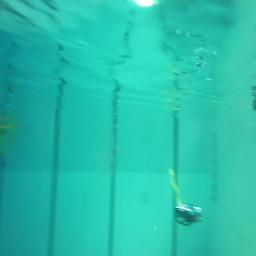Side: (175, 204, 204, 227)
